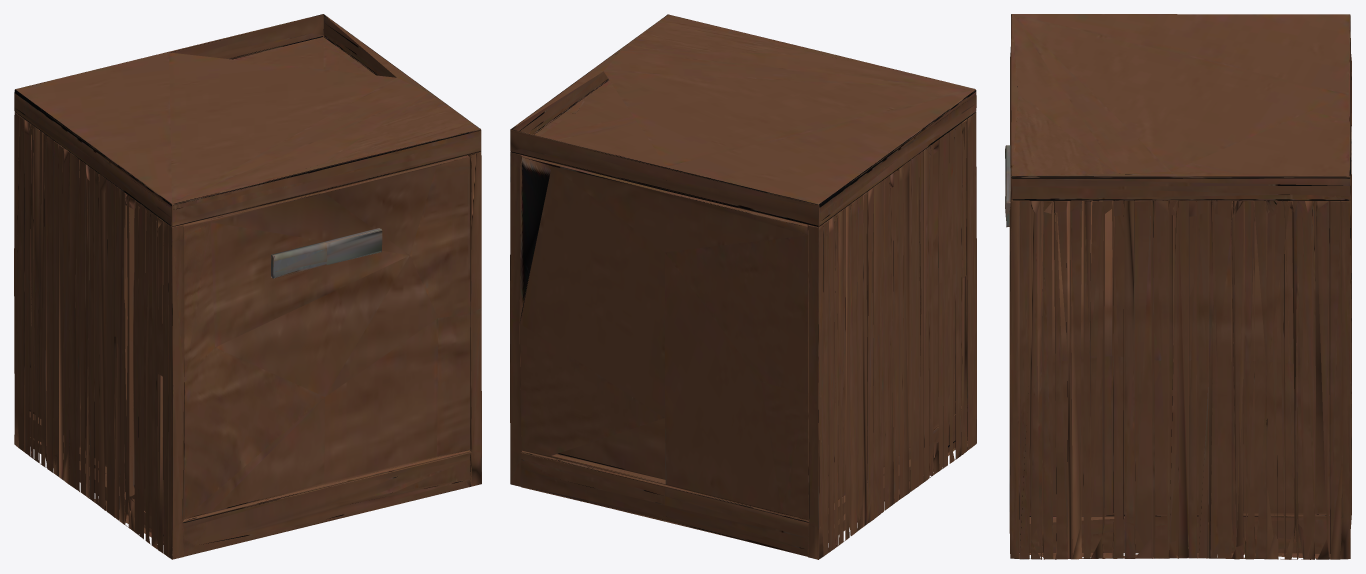
File: mobile.glb
3 renders of one model, left to right at view 1: azimuth 30°, elevation 25°; view 2: azimuth 150°, elevation 25°; view 3: azimuth 270°, elevation 25°, orthographic. The views are drawn at different scales.
Visible parts, largest first — view 1: nightstand; view 2: nightstand; view 3: nightstand.
Boxes of the visible parts, x1,y1,x2,y2 form: nightstand: (14, 14, 481, 559); nightstand: (510, 14, 976, 559); nightstand: (1005, 14, 1351, 559).
Size of the model in its own units: 0.4998 by 0.5507 by 0.4504.
Materials: 1 (1 with a texture image).
